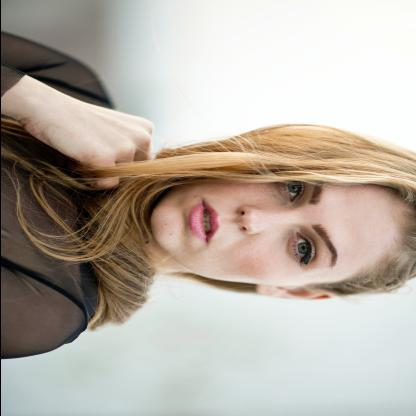Eye: (286, 231, 322, 267), (280, 172, 312, 202)
Mouth: (182, 202, 223, 244)
Nose: (235, 206, 302, 235)
